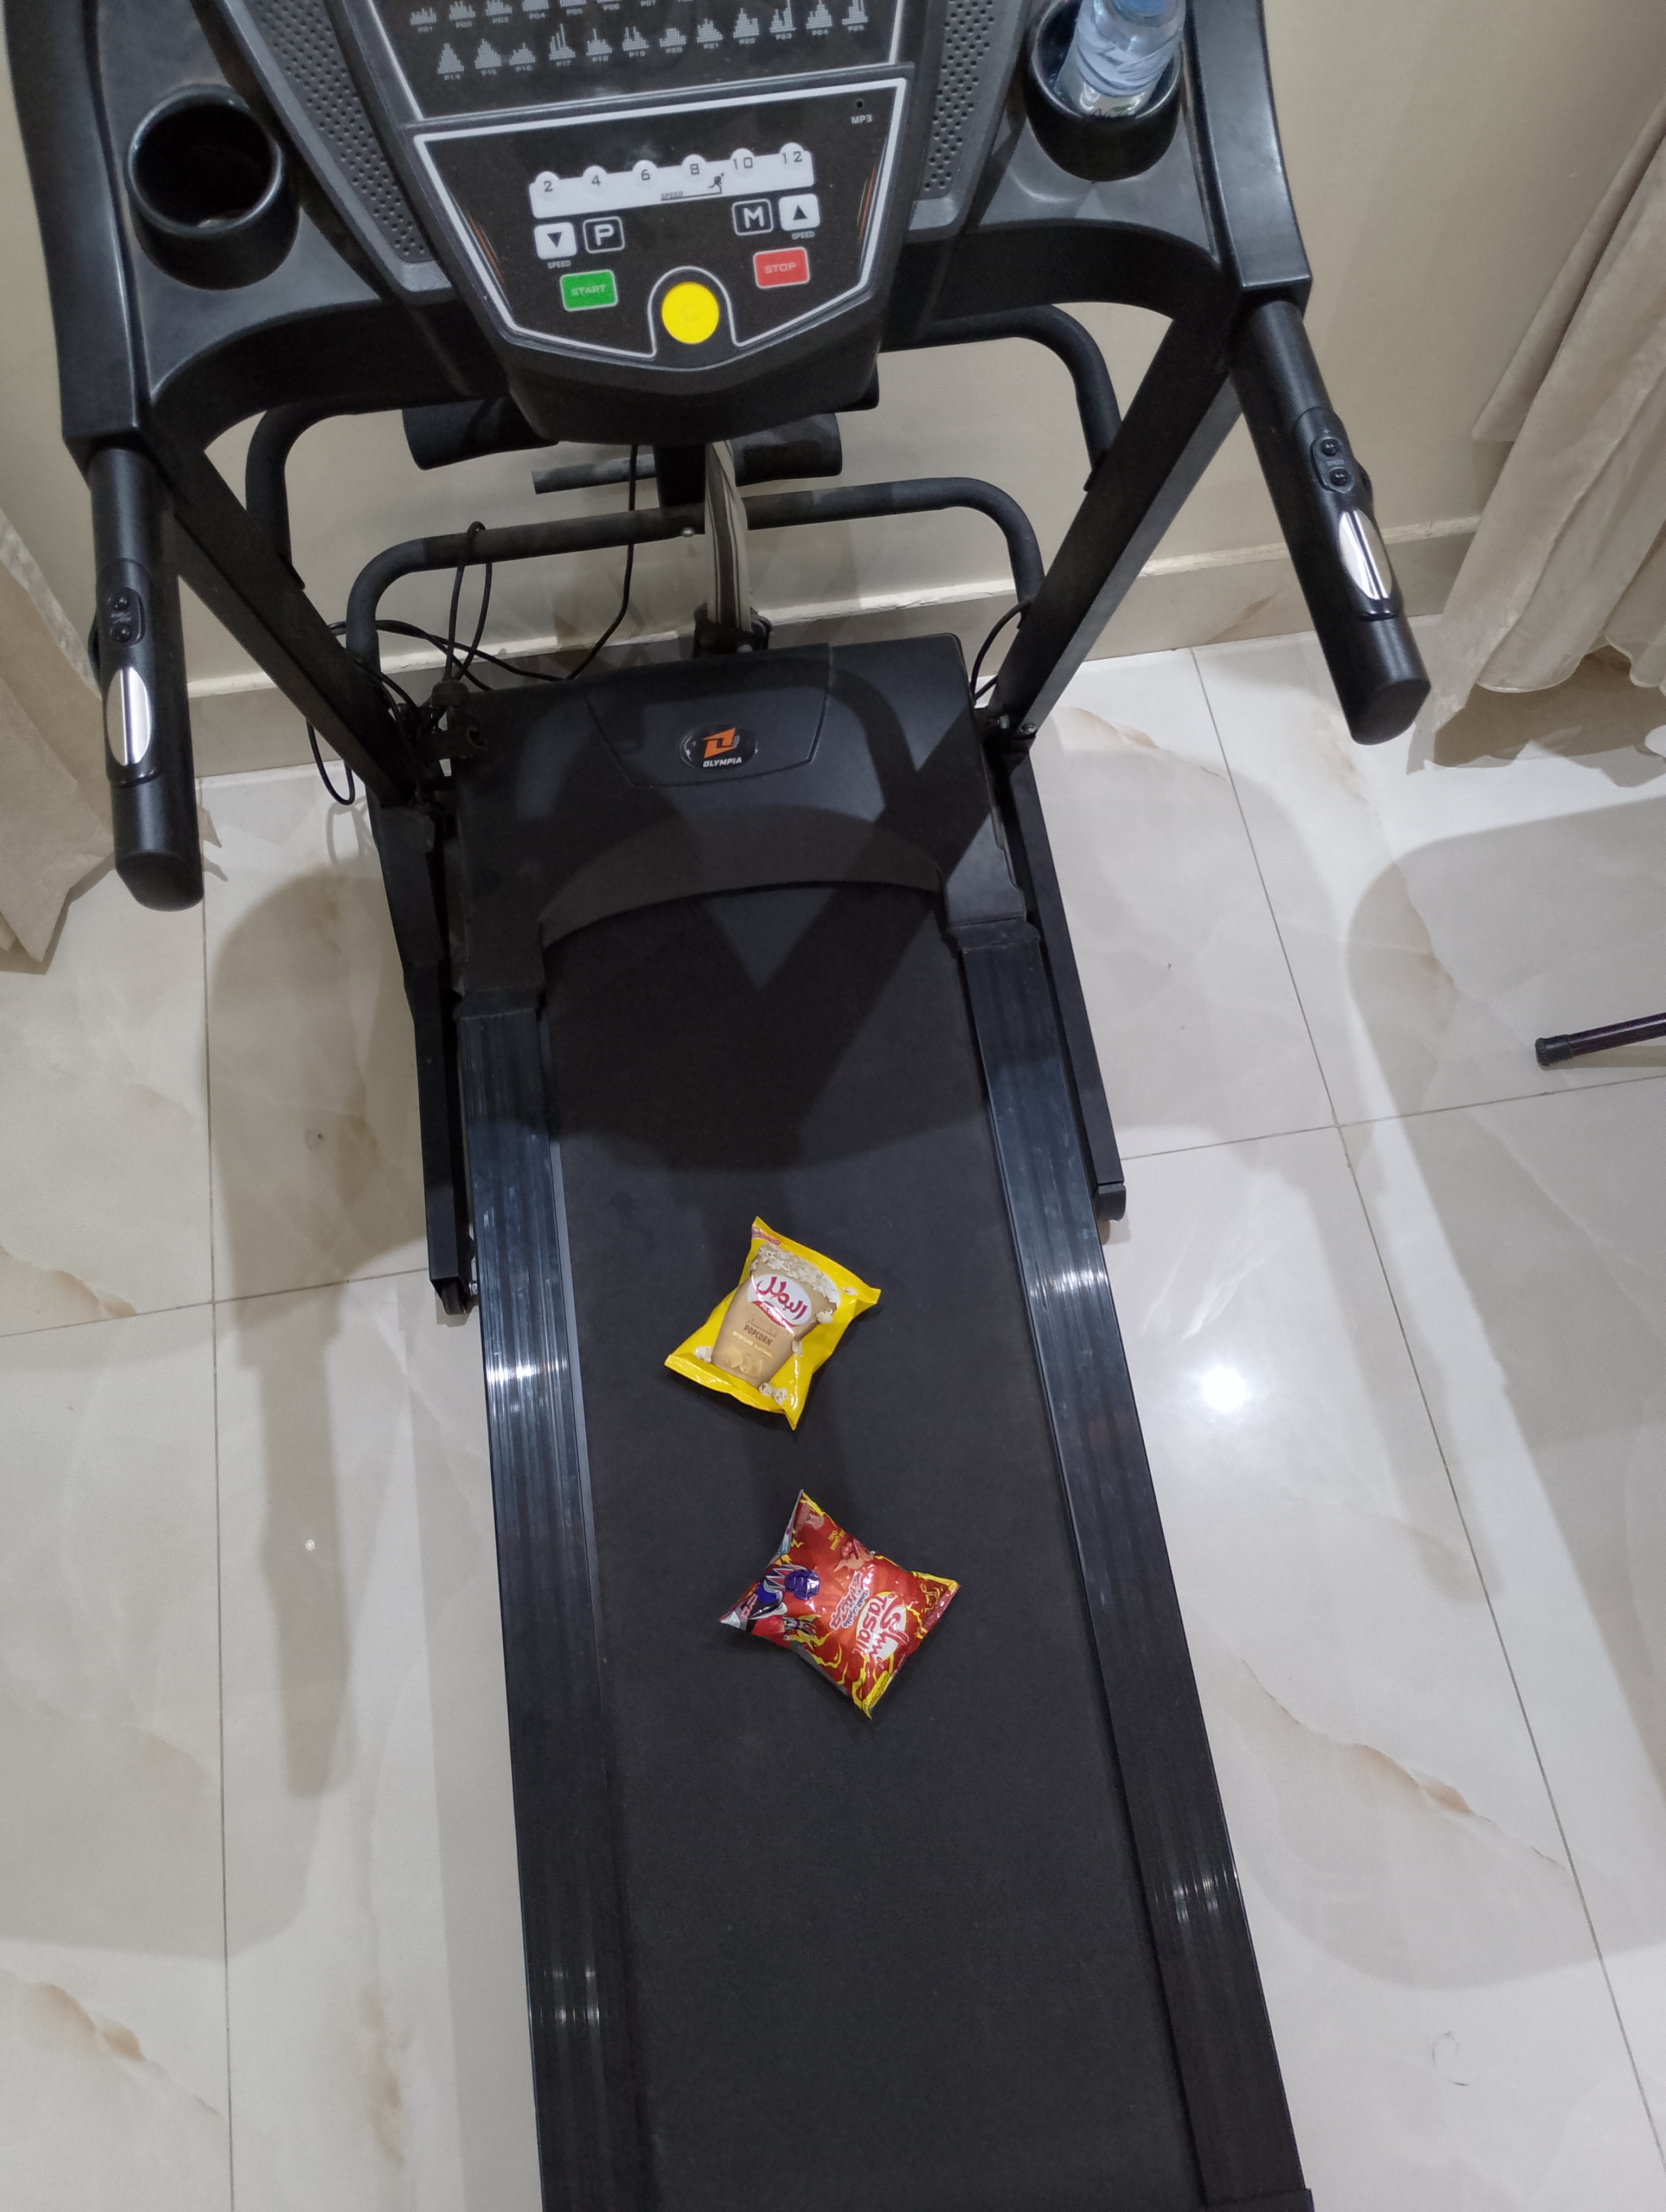albatal_popcorn_butter_flavor: (663, 1215, 882, 1432)
tasali_hot_chili: (718, 1488, 961, 1722)
